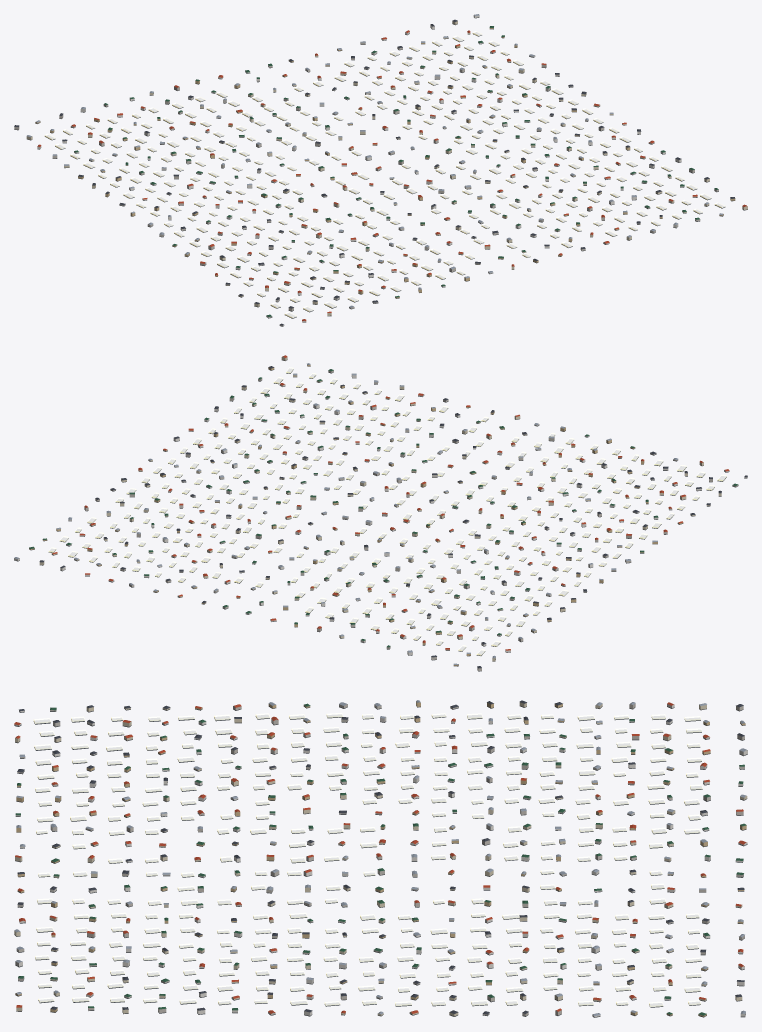
File: buildings_T_E03_S02.glb
3 views of the same model, one above another, from view 1: azimuth 30°, elevation 25°; view 2: azimuth 150°, elevation 25°; view 3: azimuth 270°, elevation 25° (orthographic). The views are drawn at different scales.
Visible parts, largest first — view 1: T_E03_S02_roofs_agri_greenhouse_arch, T_E03_S02_slope_seating_foundations, T_E03_S02_walls_wall_modern_warm_white, T_E03_S02_walls_wall_dalat_cream_stucco, T_E03_S02_walls_wall_pastel_sand_gray, T_E03_S02_roofs_roof_terracotta_gable, T_E03_S02_walls_wall_french_ochre_villa, T_E03_S02_roofs_roof_zinc_silver_gable, T_E03_S02_roofs_roof_pine_green_hip, T_E03_S02_roofs_roof_slate_French_villa_hip; view 2: T_E03_S02_roofs_agri_greenhouse_arch, T_E03_S02_slope_seating_foundations, T_E03_S02_walls_wall_modern_warm_white, T_E03_S02_walls_wall_dalat_cream_stucco, T_E03_S02_walls_wall_pastel_sand_gray, T_E03_S02_roofs_roof_terracotta_gable, T_E03_S02_roofs_roof_pine_green_hip, T_E03_S02_walls_wall_french_ochre_villa, T_E03_S02_roofs_roof_zinc_silver_gable, T_E03_S02_roofs_roof_slate_French_villa_hip; view 3: T_E03_S02_roofs_agri_greenhouse_arch, T_E03_S02_slope_seating_foundations, T_E03_S02_walls_wall_modern_warm_white, T_E03_S02_walls_wall_dalat_cream_stucco, T_E03_S02_walls_wall_pastel_sand_gray, T_E03_S02_roofs_roof_terracotta_gable, T_E03_S02_walls_wall_french_ochre_villa, T_E03_S02_roofs_roof_pine_green_hip, T_E03_S02_roofs_roof_zinc_silver_gable, T_E03_S02_roofs_roof_slate_French_villa_hip.
Part boxes in pixels (x1=…): T_E03_S02_roofs_agri_greenhouse_arch: x1=44, y1=31, x2=725, y2=318; T_E03_S02_slope_seating_foundations: x1=14, y1=17, x2=747, y2=326; T_E03_S02_walls_wall_modern_warm_white: x1=37, y1=15, x2=697, y2=326; T_E03_S02_walls_wall_dalat_cream_stucco: x1=26, y1=21, x2=747, y2=315; T_E03_S02_walls_wall_pastel_sand_gray: x1=14, y1=42, x2=718, y2=317; T_E03_S02_roofs_roof_terracotta_gable: x1=37, y1=30, x2=747, y2=321; T_E03_S02_walls_wall_french_ochre_villa: x1=35, y1=28, x2=735, y2=298; T_E03_S02_roofs_roof_zinc_silver_gable: x1=27, y1=14, x2=723, y2=307; T_E03_S02_roofs_roof_pine_green_hip: x1=74, y1=26, x2=718, y2=316; T_E03_S02_roofs_roof_slate_French_villa_hip: x1=14, y1=19, x2=735, y2=325; T_E03_S02_roofs_agri_greenhouse_arch: x1=48, y1=367, x2=726, y2=655; T_E03_S02_slope_seating_foundations: x1=14, y1=359, x2=747, y2=671; T_E03_S02_walls_wall_modern_warm_white: x1=14, y1=374, x2=747, y2=655; T_E03_S02_walls_wall_dalat_cream_stucco: x1=39, y1=356, x2=721, y2=661; T_E03_S02_walls_wall_pastel_sand_gray: x1=84, y1=370, x2=738, y2=671; T_E03_S02_roofs_roof_terracotta_gable: x1=52, y1=355, x2=729, y2=650; T_E03_S02_roofs_roof_pine_green_hip: x1=29, y1=369, x2=738, y2=647; T_E03_S02_walls_wall_french_ochre_villa: x1=29, y1=365, x2=682, y2=665; T_E03_S02_roofs_roof_zinc_silver_gable: x1=14, y1=363, x2=677, y2=664; T_E03_S02_roofs_roof_slate_French_villa_hip: x1=39, y1=366, x2=747, y2=668; T_E03_S02_roofs_agri_greenhouse_arch: x1=33, y1=713, x2=702, y2=1007; T_E03_S02_slope_seating_foundations: x1=14, y1=705, x2=747, y2=1017; T_E03_S02_walls_wall_modern_warm_white: x1=14, y1=704, x2=747, y2=1017; T_E03_S02_walls_wall_dalat_cream_stucco: x1=14, y1=702, x2=747, y2=1016; T_E03_S02_walls_wall_pastel_sand_gray: x1=16, y1=703, x2=744, y2=1016; T_E03_S02_roofs_roof_terracotta_gable: x1=14, y1=702, x2=746, y2=1013; T_E03_S02_walls_wall_french_ochre_villa: x1=15, y1=701, x2=746, y2=1016; T_E03_S02_roofs_roof_pine_green_hip: x1=15, y1=703, x2=746, y2=1015; T_E03_S02_roofs_roof_zinc_silver_gable: x1=14, y1=700, x2=747, y2=1015; T_E03_S02_roofs_roof_slate_French_villa_hip: x1=17, y1=700, x2=744, y2=1014.
Size of the model in its own units: 1791 by 30.5 by 1791.
